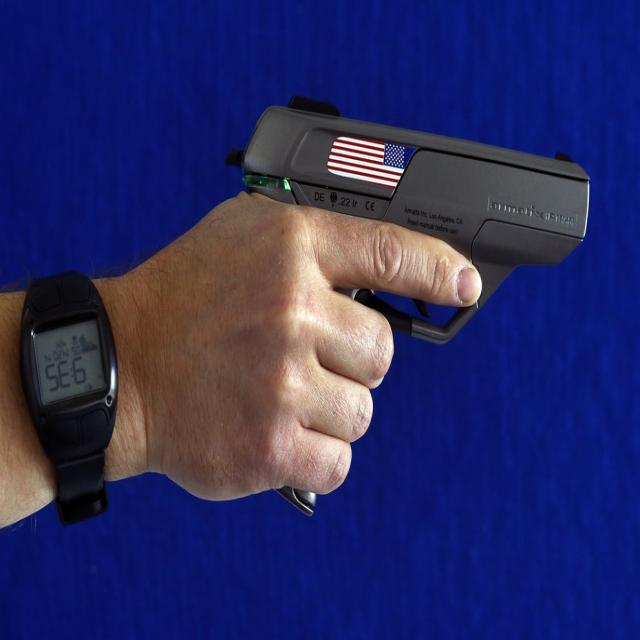HandGun: (224, 96, 590, 346)
